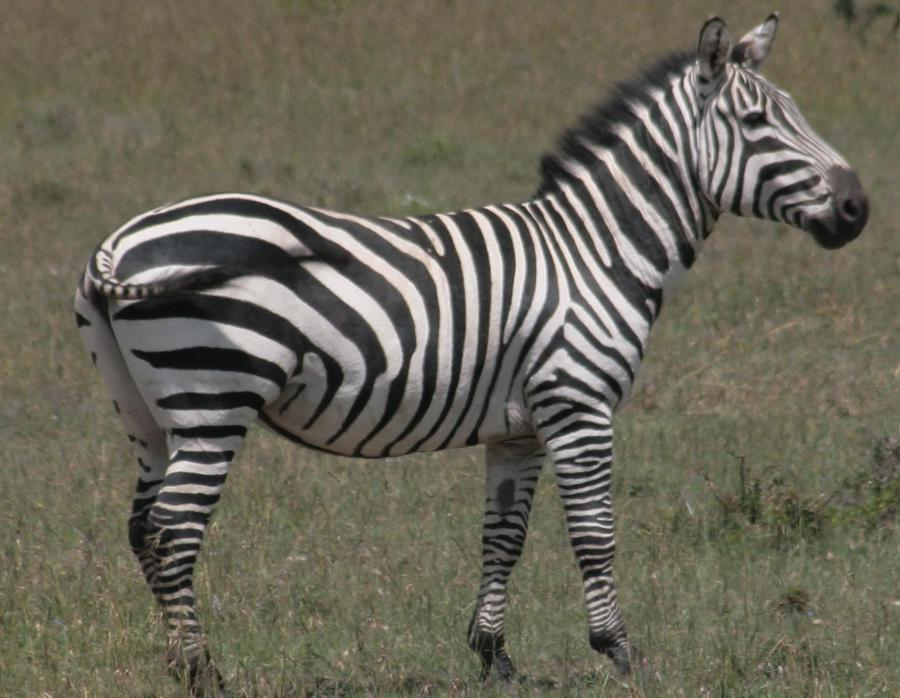zebra_plains: (116, 150, 648, 491)
